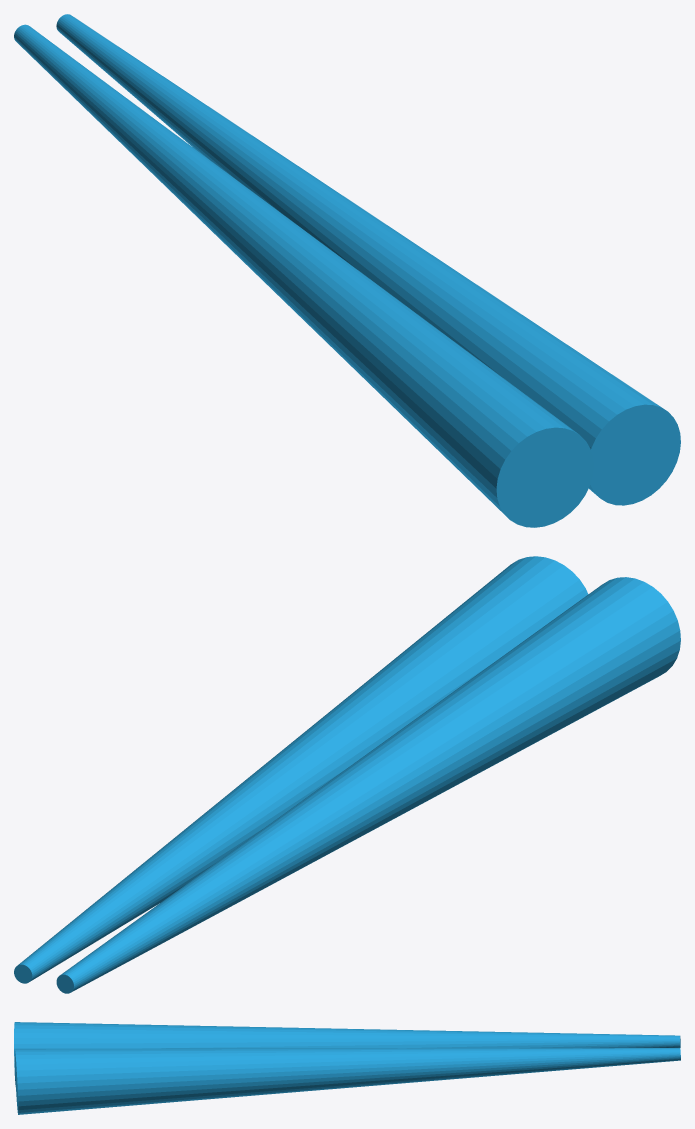
The model's file is projectionCylinder.glb.
The picture shows the model from 3 angles, top to bottom: view 1: azimuth 30°, elevation 25°; view 2: azimuth 150°, elevation 25°; view 3: azimuth 270°, elevation 25°; orthographic projection. The views are drawn at different scales.
Visible parts, largest first — view 1: projectionCylinder; view 2: projectionCylinder; view 3: projectionCylinder.
Boxes of the visible parts, <box> form: projectionCylinder: <box>14,14,680,527</box>; projectionCylinder: <box>14,556,680,993</box>; projectionCylinder: <box>14,1022,680,1114</box>.
Size of the model in its own units: 0.431 by 0.2201 by 2.21.
